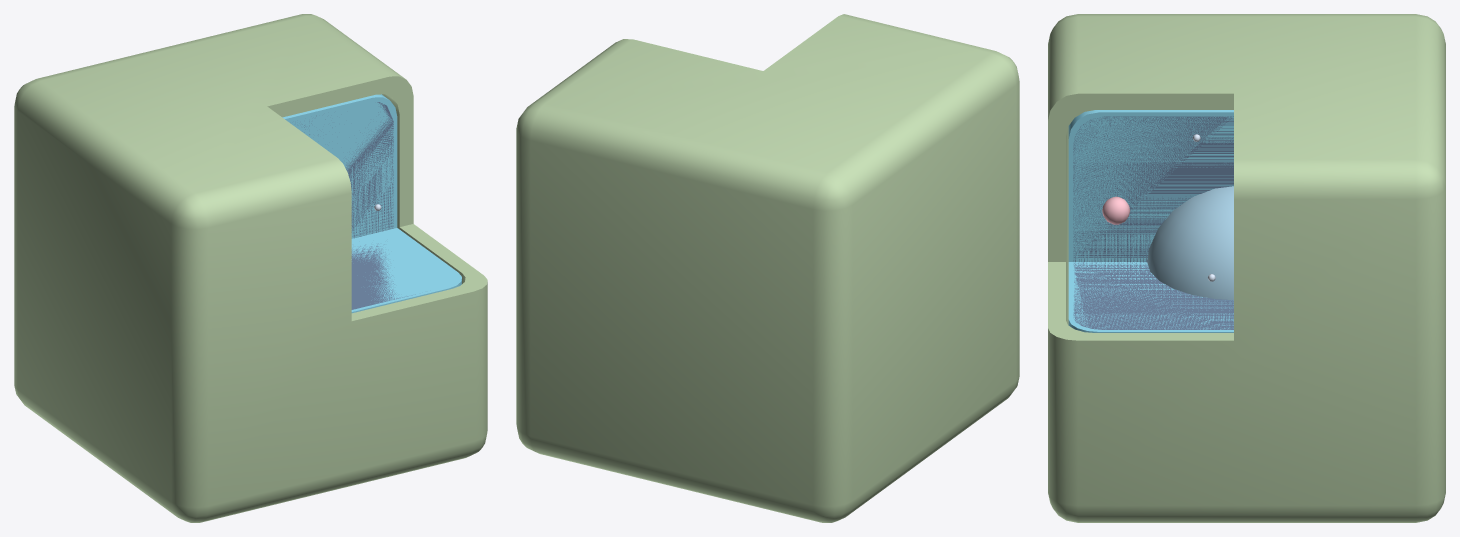
File: plant_cell.glb
3 views of the same model, side by side, from view 1: azimuth 30°, elevation 25°; view 2: azimuth 150°, elevation 25°; view 3: azimuth 270°, elevation 25° (orthographic). The views are drawn at different scales.
Parts seen in each view (by area): view 1: cell_wall, cell_membrane, cytosol; view 2: cell_wall; view 3: cell_wall, cytosol, cell_membrane, vacuole, lysosome.
Part boxes in pixels (box(x1,y1,x2,y2)): cell_wall: box(14, 14, 487, 522); cell_membrane: box(282, 94, 461, 313); cytosol: box(302, 102, 415, 309); cell_wall: box(516, 14, 1019, 522); cell_wall: box(1048, 14, 1445, 522); cytosol: box(1073, 116, 1233, 329); cell_membrane: box(1068, 110, 1233, 332); vacuole: box(1147, 186, 1233, 299); lysosome: box(1102, 196, 1130, 224).
Size of the model in its own units: 2.12 by 2.12 by 2.12.
